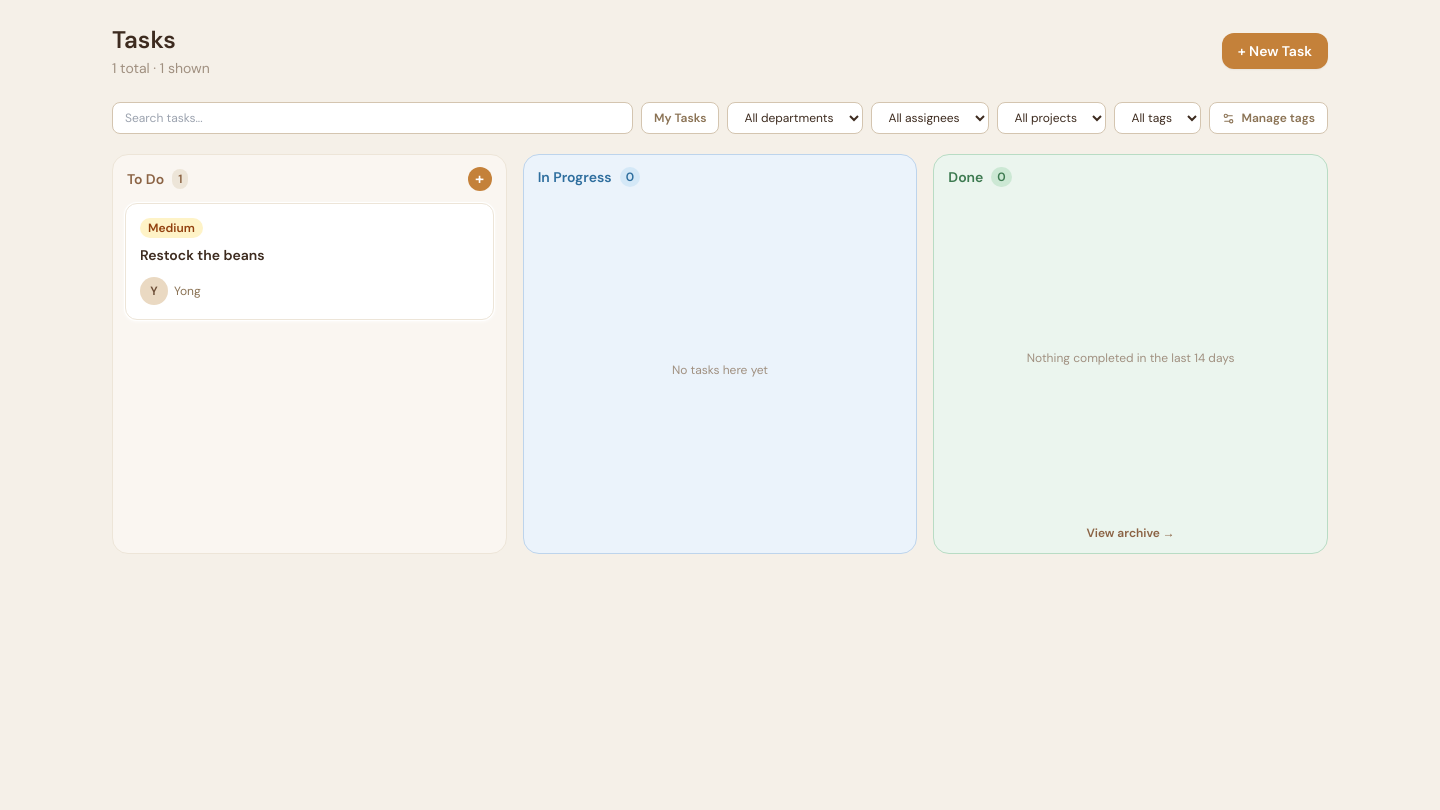
换栏失败要说在使用者看得到的地方 › reports a move failed from the detail modal inside the modal, not on the covered banner
Click the element with test id "task-card-task-1" at (309, 262), box [125, 203, 494, 320]
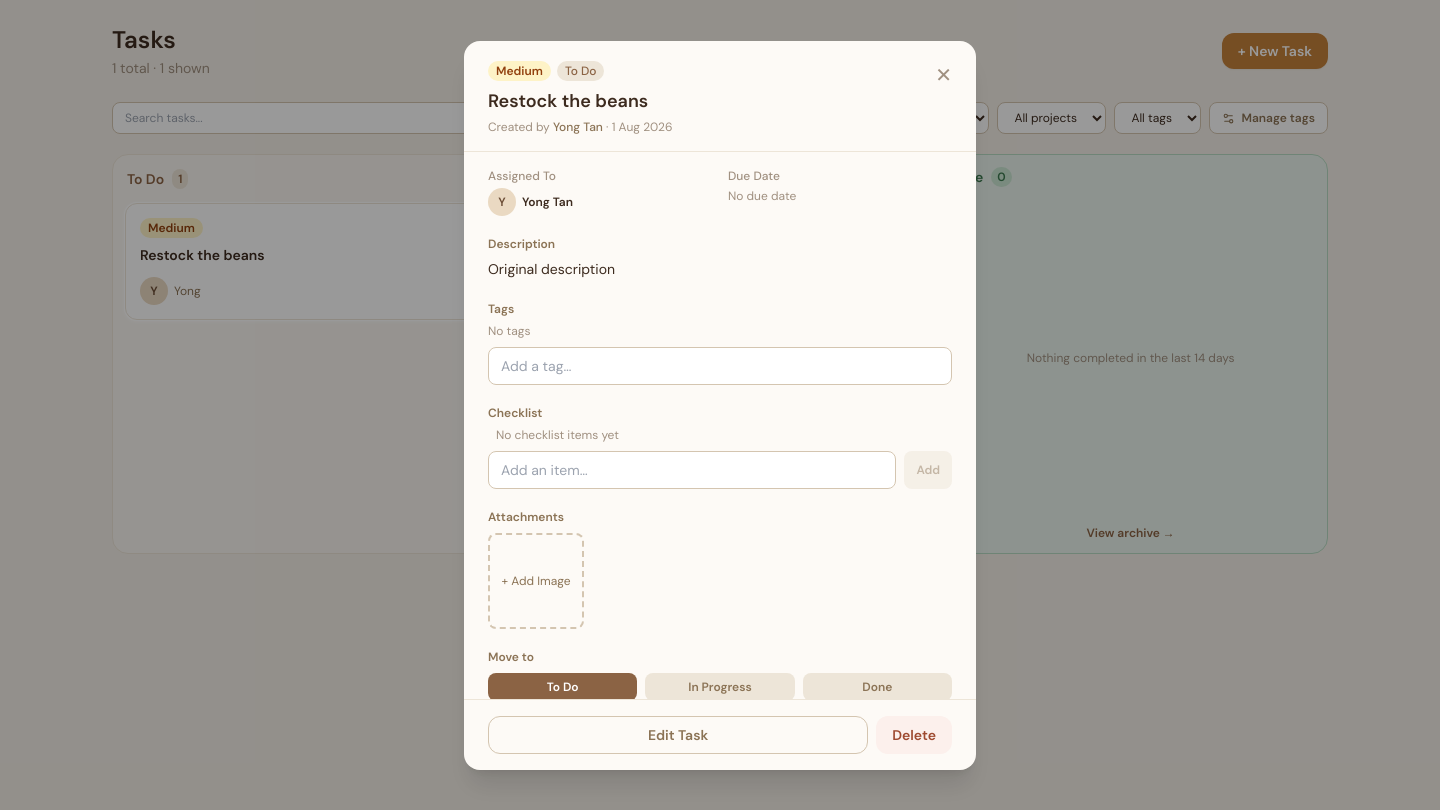
Click the button "In Progress" at (720, 687), box [645, 673, 795, 701]
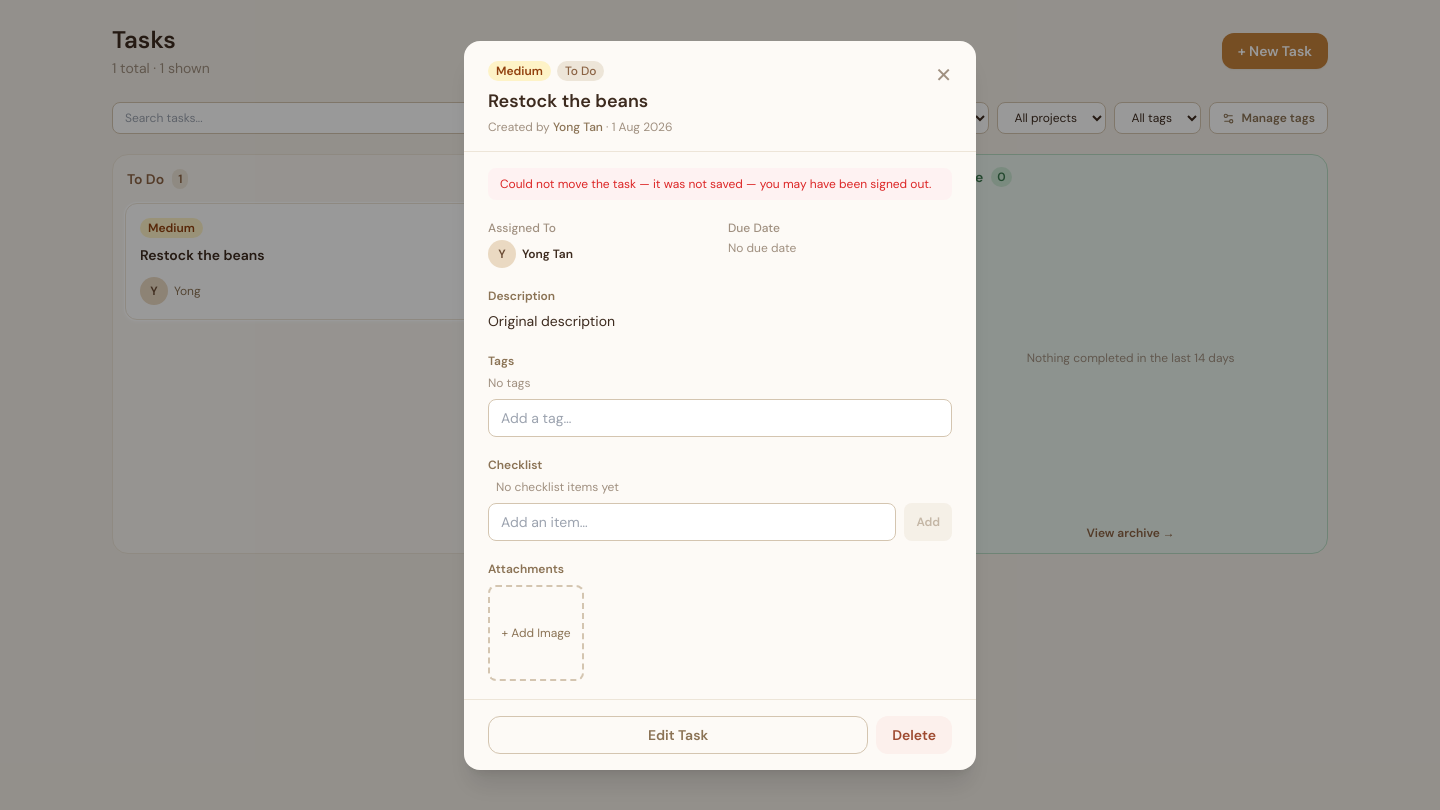
Check: the text "Could not move the task" is shown once, box [488, 168, 952, 200]
Check: the text "Could not move the task" shows "signed out", box [500, 176, 931, 192]
